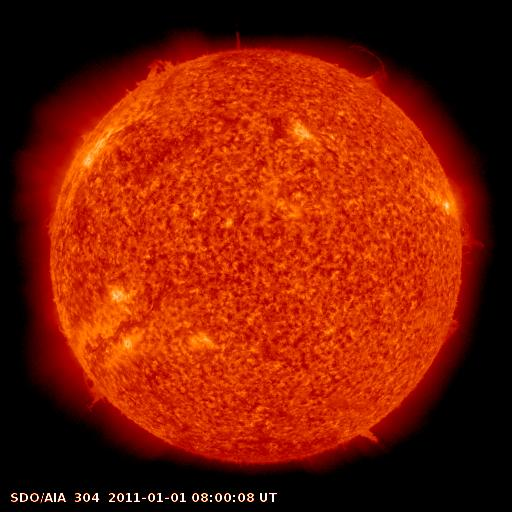prominence: (327, 33, 396, 96), (65, 360, 123, 418), (452, 190, 498, 260), (126, 46, 192, 89), (429, 302, 479, 347), (346, 418, 398, 456), (222, 24, 259, 55)
